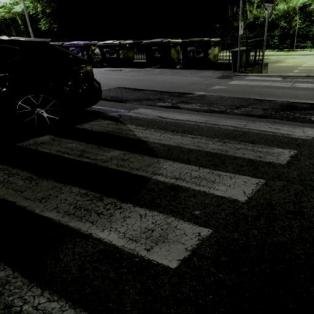Paso de Cebra: (8, 116, 307, 206)
